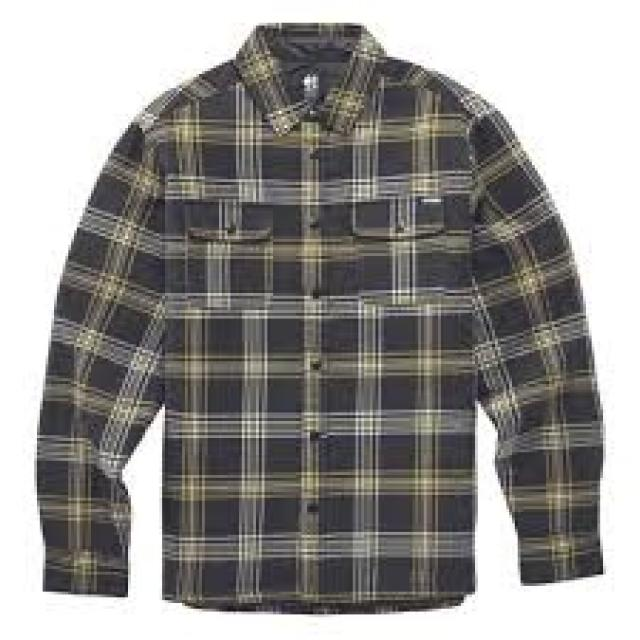plaid: (14, 10, 614, 625)
